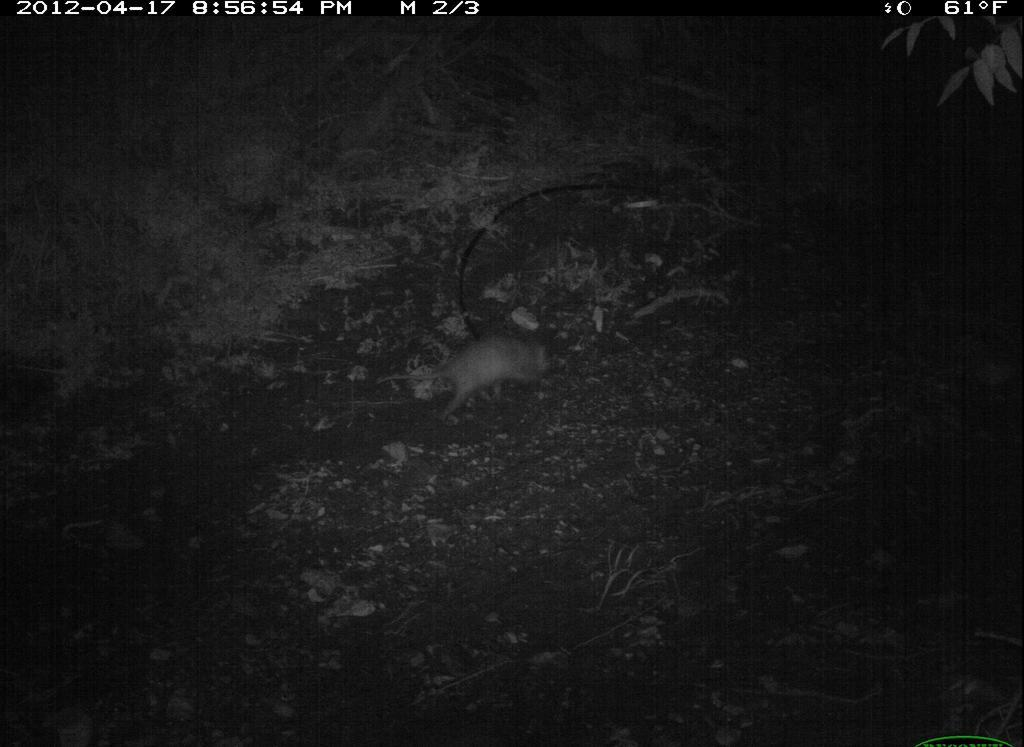opossum: (378, 327, 565, 427)
